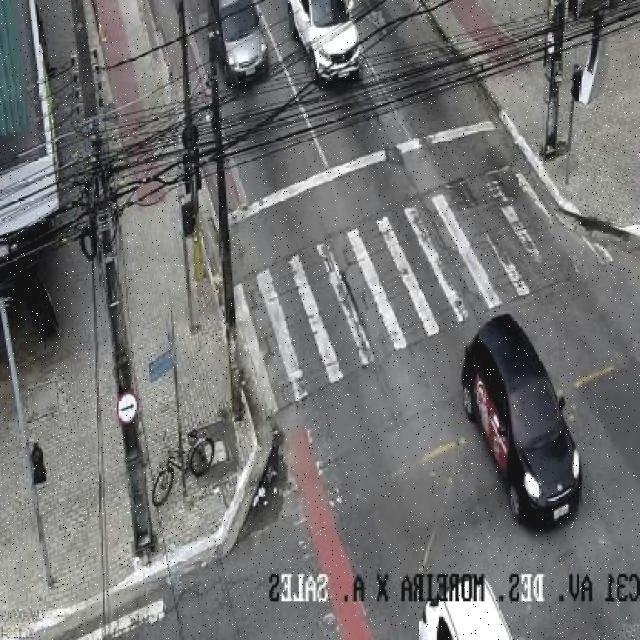Car: (286, 0, 374, 94), (210, 0, 271, 90)
Cycle: (147, 430, 240, 516)
Van: (462, 312, 594, 547)
